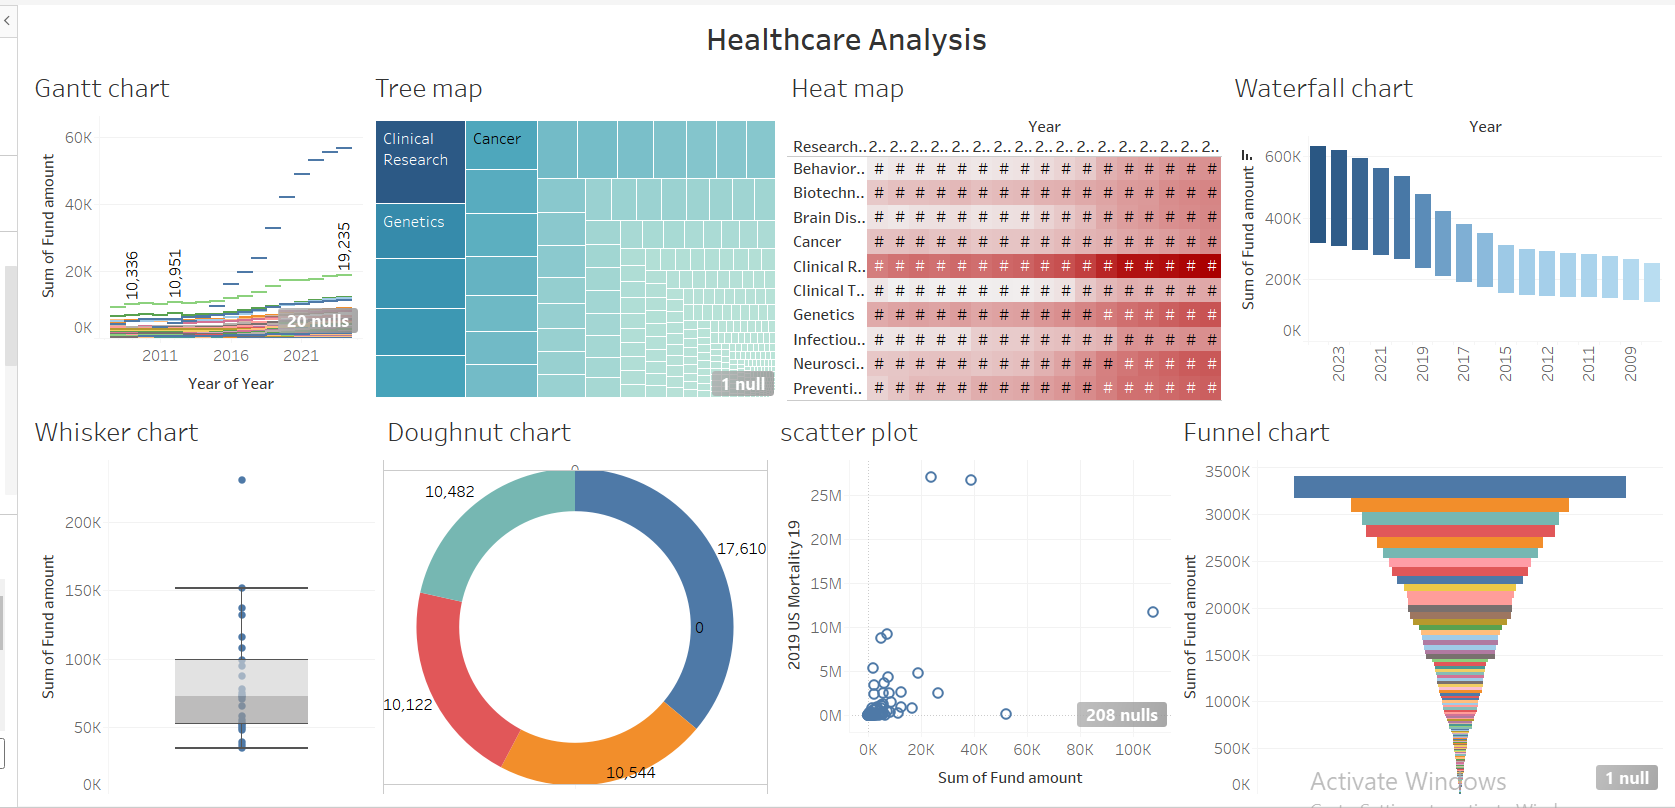

Layout of this report page (visuals, bound fields, positions):
{"tool":"tableau","page":{"name":"Dashboard 2","canvas":[1000,1000],"units":"permille","ordinal":1},"visuals":[{"type":"title","box":[4.8,10,990.3,61.2]},{"type":"worksheet","title":"Gantt chart","mark":"GanttBar","rows":["Pivot Field Values"],"cols":["Pivot Field Names"],"box":[4.8,71.2,205.8,428.8]},{"type":"worksheet","title":"Tree map","mark":"Automatic","box":[210.6,71.2,251.1,428.8]},{"type":"worksheet","title":"Heat map","mark":"Square","rows":["Research/Disease Areas   (Dollars in millions and rounded)"],"cols":["Pivot Field Names"],"box":[461.7,71.2,267.5,428.8]},{"type":"worksheet","title":"Waterfall chart","mark":"GanttBar","rows":["Pivot Field Values"],"cols":["Pivot Field Names"],"box":[729.2,71.2,265.7,428.8]},{"type":"worksheet","title":"Whisker chart","mark":"Circle","rows":["Pivot Field Values"],"box":[4.8,500,213,490]},{"type":"worksheet","title":"Doughnut chart","mark":"Pie","cols":["Calculation_1325465671247986689","Calculation_1325465671248605187"],"box":[217.9,500,236.9,490]},{"type":"worksheet","title":"scatter plot","mark":"Automatic","rows":["2019 US Mortality 19"],"cols":["Pivot Field Values"],"box":[454.8,500,243.7,490]},{"type":"worksheet","title":"Funnel chart","mark":"Automatic","rows":["Pivot Field Values"],"box":[698.5,500,296.7,490]}]}

Visuals, with their boxes on the dashboard's canvas, which has no fixed pixel size, in thousandths of its width and height (x1, y1, x2, y2). These are canvas units, not pixel positions in the 1675x808 screenshot, which may show the page scaled, cropped or inside an application window:
title: 5:10:995:71
"Gantt chart" worksheet (GanttBar marks): 5:71:211:500
"Tree map" worksheet: 211:71:462:500
"Heat map" worksheet (Square marks): 462:71:729:500
"Waterfall chart" worksheet (GanttBar marks): 729:71:995:500
"Whisker chart" worksheet (Circle marks): 5:500:218:990
"Doughnut chart" worksheet (Pie marks): 218:500:455:990
"scatter plot" worksheet: 455:500:698:990
"Funnel chart" worksheet: 698:500:995:990
